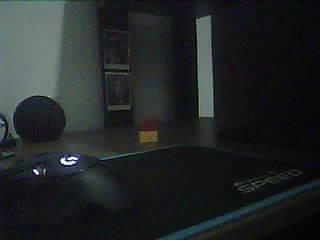lego: (138, 117, 158, 143)
